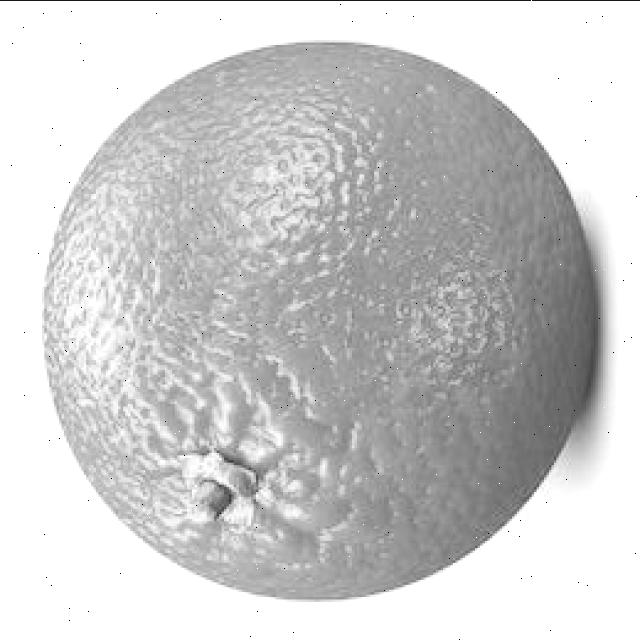Ripe: (40, 34, 600, 604)
